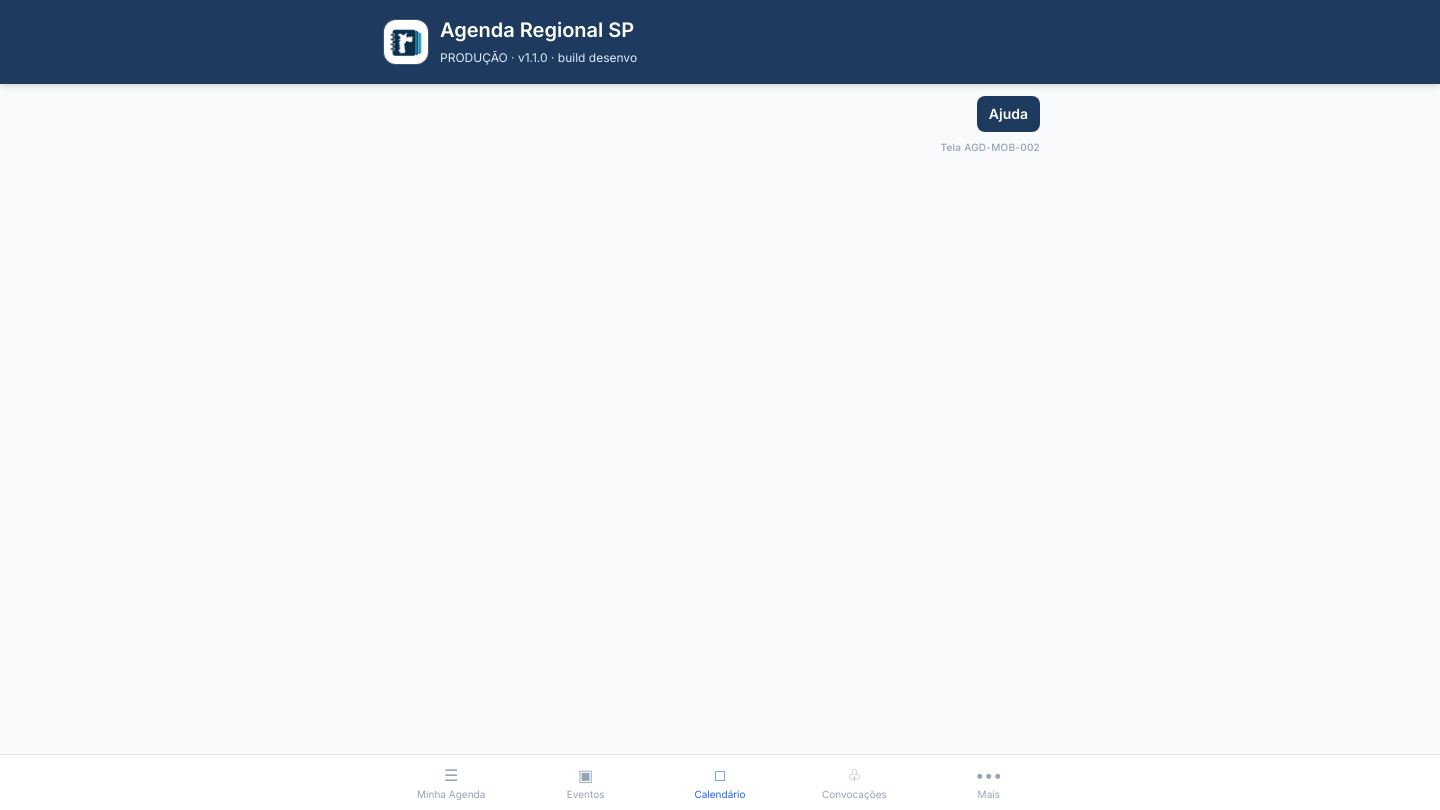
Test: Central de Ajuda › toda aba calendario tem artigo, código oficial e botão de ajuda
Step 1. Click the button "Ajuda" → (1008, 114), box top-left (977, 96), bottom-right (1040, 132)
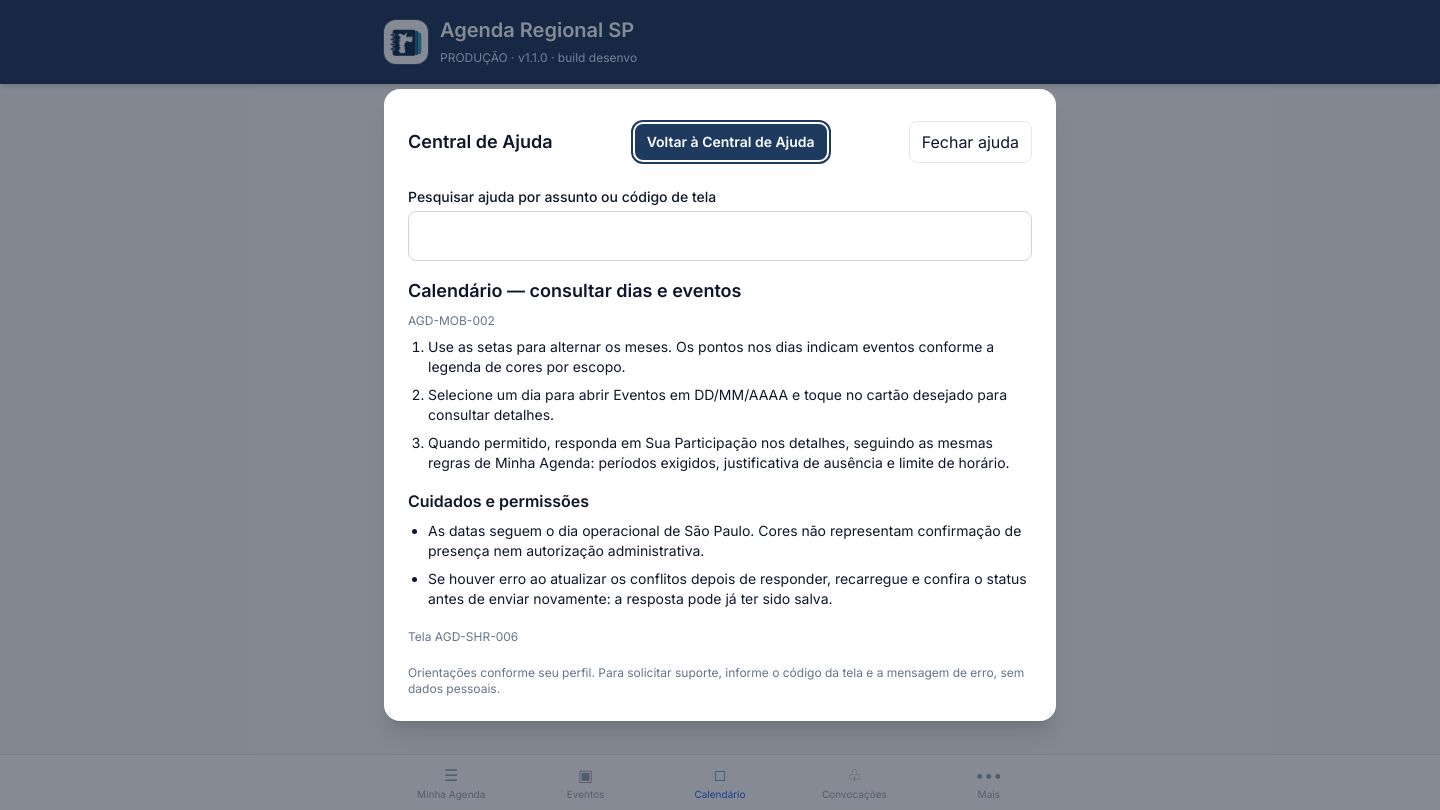
Now the heading "Calendário — consultar dias e eventos" is shown, box top-left (408, 280), bottom-right (742, 301)
